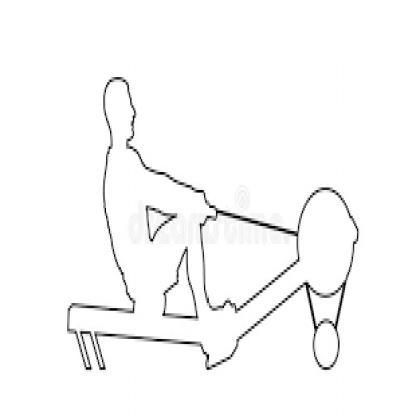Seated Cable Rows: (66, 61, 358, 373)
